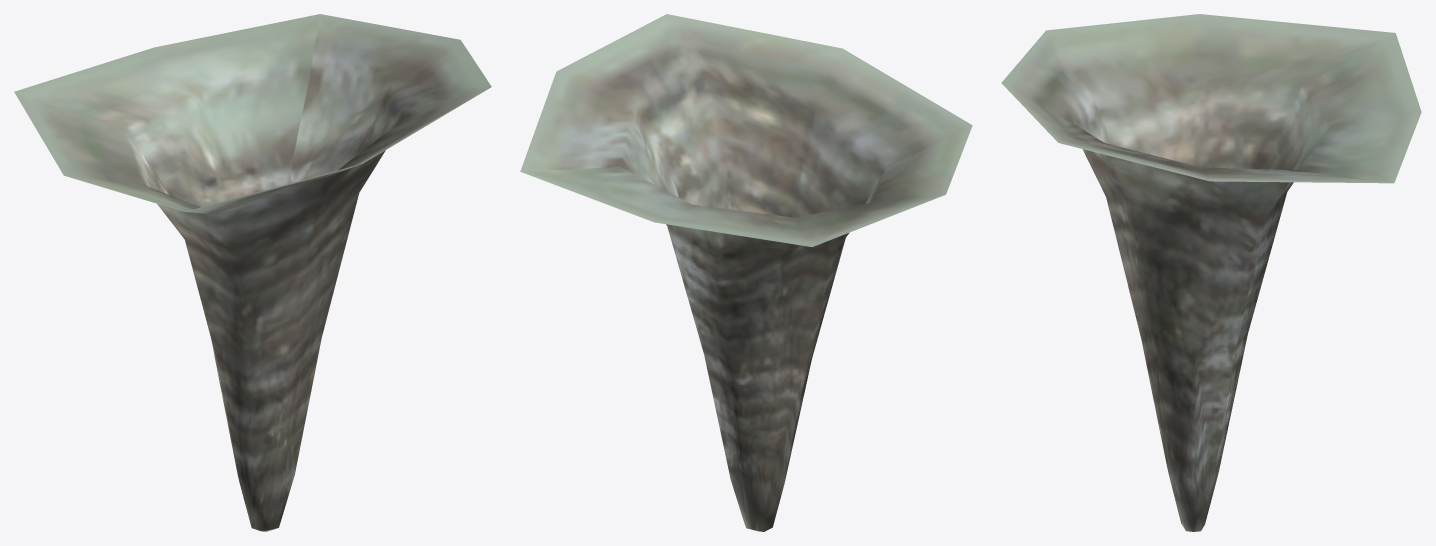
The model's file is TROLLHOLE02_PS-MAINSTALAG89.fbx.
The picture shows the model from 3 angles, left to right: view 1: azimuth 30°, elevation 25°; view 2: azimuth 150°, elevation 25°; view 3: azimuth 270°, elevation 25°; orthographic projection. The views are drawn at different scales.
Visible parts, largest first — view 1: TROLLHOLE02_PS-MAINSTALAG89; view 2: TROLLHOLE02_PS-MAINSTALAG89; view 3: TROLLHOLE02_PS-MAINSTALAG89.
Part boxes in pixels (bbox=[...]): TROLLHOLE02_PS-MAINSTALAG89: bbox=[14, 14, 491, 531]; TROLLHOLE02_PS-MAINSTALAG89: bbox=[520, 14, 972, 531]; TROLLHOLE02_PS-MAINSTALAG89: bbox=[1001, 14, 1421, 531].
Size of the model in its own units: 25293 by 27273 by 22149.
Materials: 1 (1 with a texture image).
